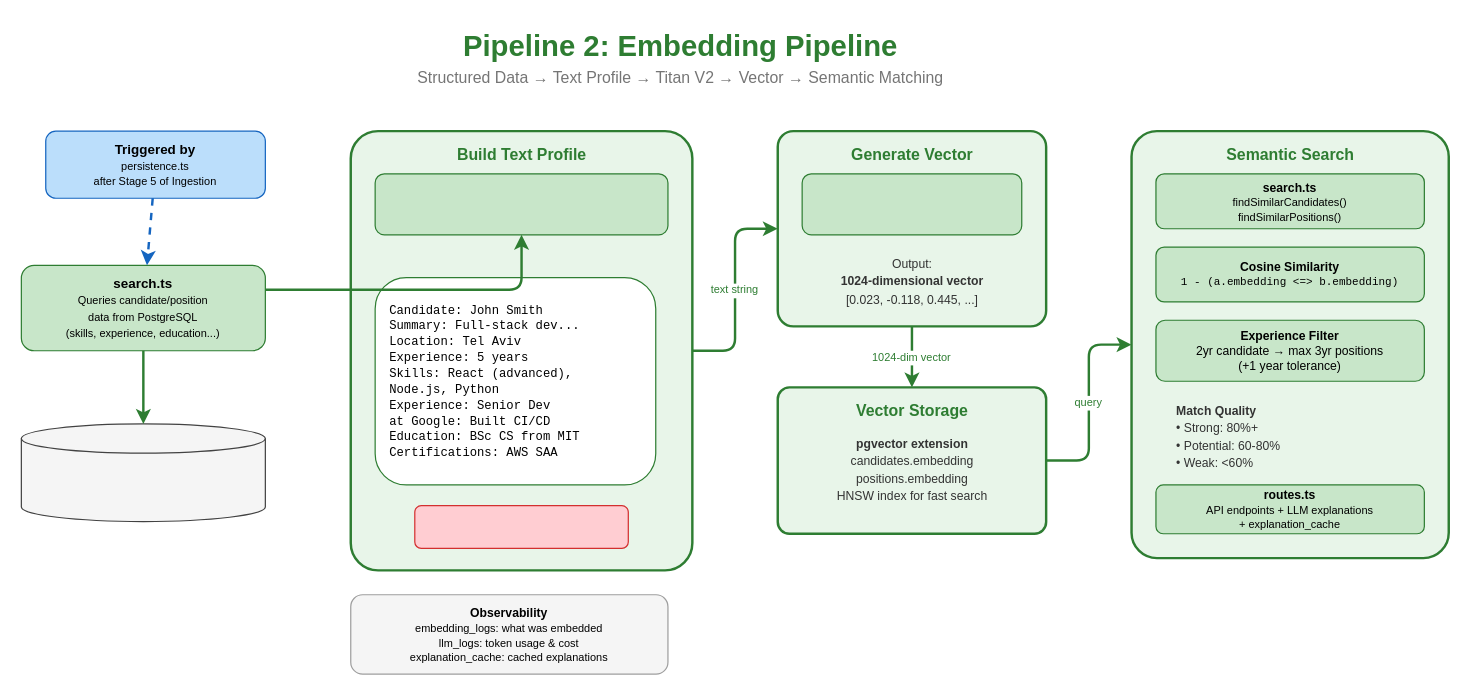
Some shapes in this 1471 by 695 pixel diagram are drawn without their labels. The shapes that lost their labels are listed below. From the top down, each one's centre as x and y in pixels, then its label:
At (x=521, y=204): "embedding-text.ts buildCandidateEmbeddingText() buildPositionEmbeddingText()".
At (x=911, y=204): "bedrock-embeddings.ts AWS Titan V2 amazon.titan-embed-text-v2:0".
At (x=142, y=472): "PostgreSQL candidates, skills, experiences, education, certifications, languages".
At (x=521, y=526): "Uses LLM-extracted data, NOT raw CV text".
